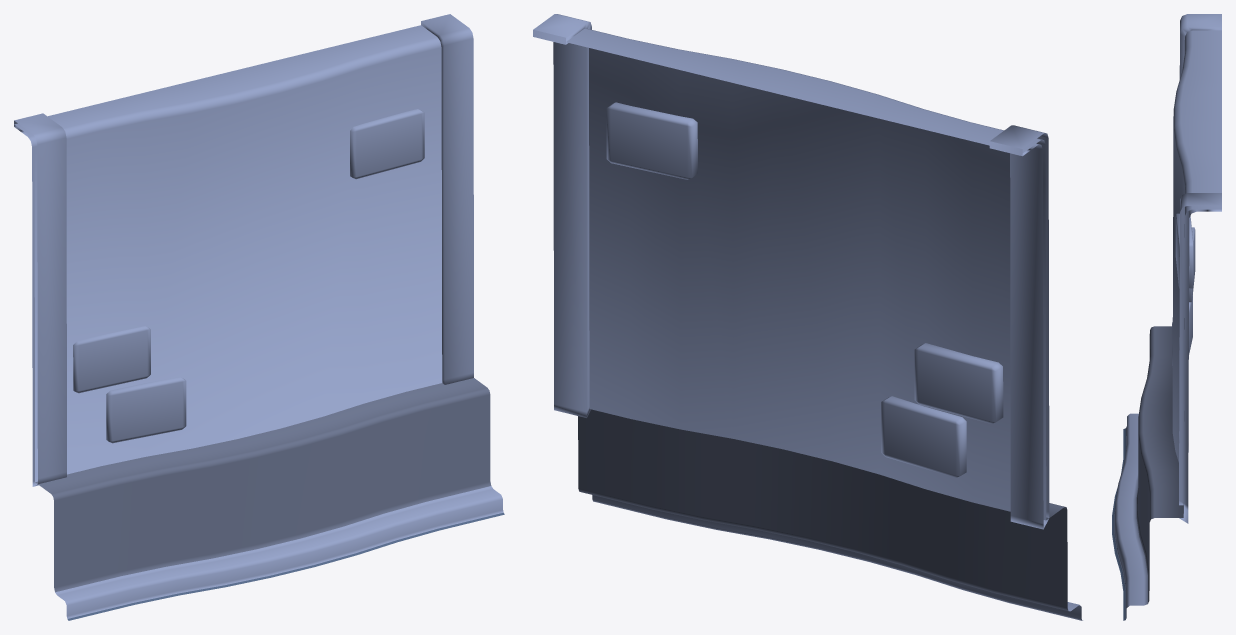
Rendered from 2_Wall_2.glb.
The picture shows the model from 3 angles, left to right: view 1: azimuth 30°, elevation 25°; view 2: azimuth 150°, elevation 25°; view 3: azimuth 270°, elevation 25°; orthographic projection. The views are drawn at different scales.
Parts seen in each view (by area): view 1: Cube.029; view 2: Cube.029; view 3: Cube.029.
Boxes of the visible parts, x1,y1,x2,y2 form: Cube.029: (14, 14, 504, 620); Cube.029: (533, 14, 1082, 620); Cube.029: (1112, 14, 1221, 620).
Bounding box in the file's own units: 4 × 4.04 × 0.9681.
